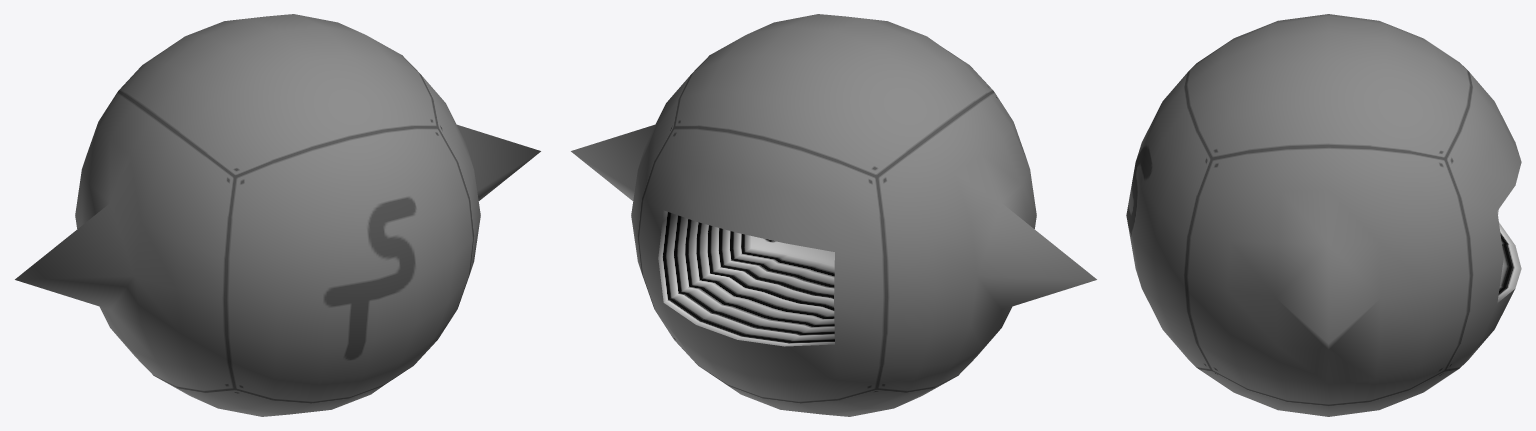
File: boyo.obj
3 views of the same model, side by side, from view 1: azimuth 30°, elevation 25°; view 2: azimuth 150°, elevation 25°; view 3: azimuth 270°, elevation 25° (orthographic).
Visible parts, largest first — view 1: Cube; view 2: Cube; view 3: Cube.
Part boxes in pixels (x1,y1,x2,y2): Cube: (15,14,540,416); Cube: (571,14,1096,416); Cube: (1126,14,1521,416).
Size of the model in its own units: 2.6 by 1.73 by 1.69.
2 materials, 2 textured.
